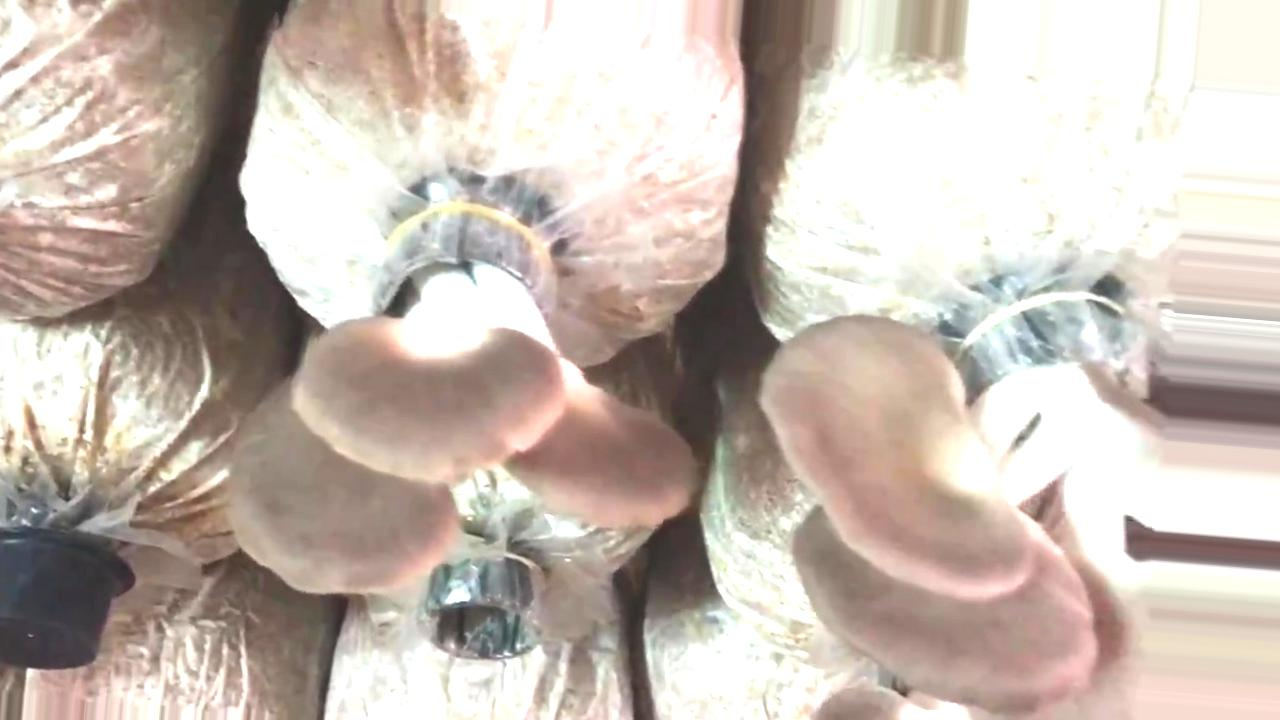nam: (761, 292, 1280, 720), (229, 216, 694, 591)
